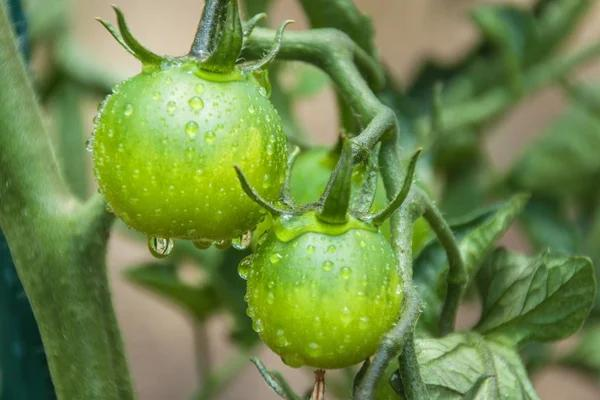Mengkal: (89, 54, 279, 241), (244, 203, 401, 373)
